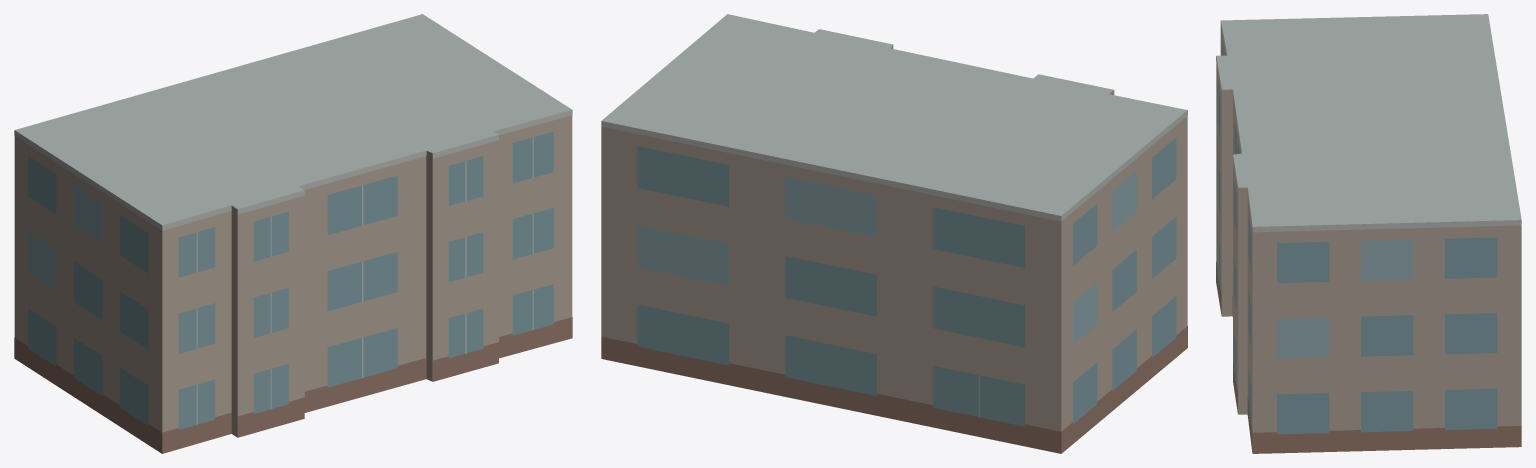
File: survey-upis-32974109.glb
The picture shows the model from 3 angles, left to right: view 1: azimuth 30°, elevation 25°; view 2: azimuth 150°, elevation 25°; view 3: azimuth 270°, elevation 25°; orthographic projection. The views are drawn at different scales.
Parts seen in each view (by area): view 1: survey-upis-32974109.tmp; view 2: survey-upis-32974109.tmp; view 3: survey-upis-32974109.tmp.
Boxes of the visible parts, box(x1,y1,x2,y2) form: survey-upis-32974109.tmp: box(14, 14, 572, 453); survey-upis-32974109.tmp: box(601, 14, 1187, 453); survey-upis-32974109.tmp: box(1216, 14, 1521, 453).
Bounding box in the file's own units: 20.53 × 10.2 × 12.45.
